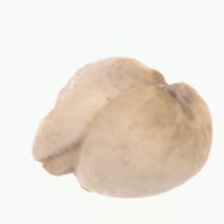L3: (31, 144, 92, 192)
L4: (31, 57, 213, 199)
